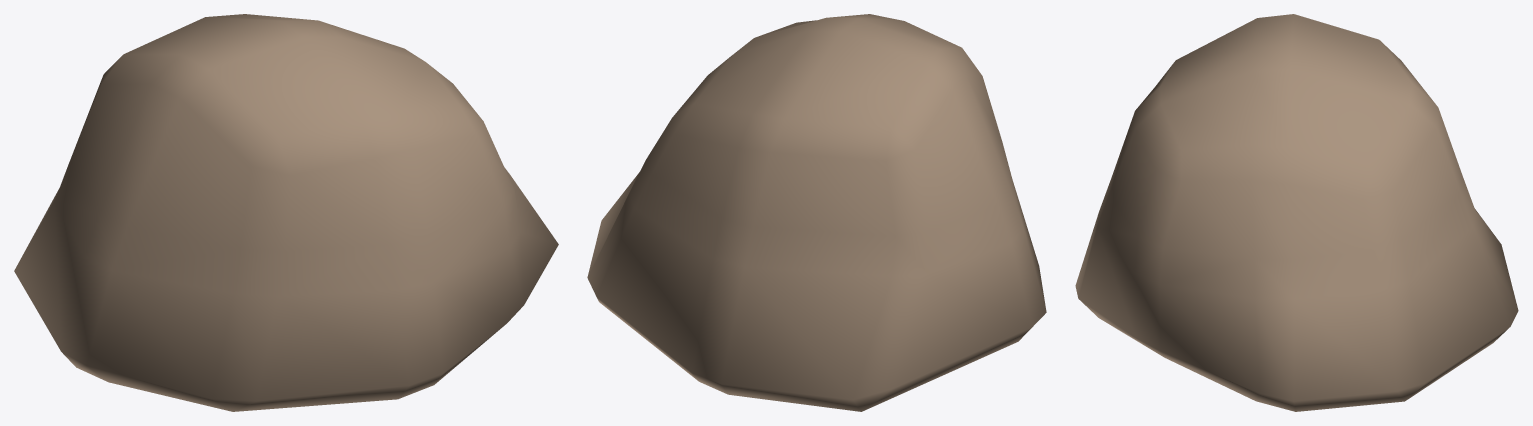
File: Rock_Wide.fbx
3 views of the same model, side by side, from view 1: azimuth 30°, elevation 25°; view 2: azimuth 150°, elevation 25°; view 3: azimuth 270°, elevation 25° (orthographic). The views are drawn at different scales.
Visible parts, largest first — view 1: RockWide_1; view 2: RockWide_1; view 3: RockWide_1.
Boxes of the visible parts, x1,y1,x2,y2 form: RockWide_1: [14, 14, 558, 411]; RockWide_1: [587, 14, 1046, 411]; RockWide_1: [1075, 14, 1518, 411].
Bounding box in the file's own units: 2.45 × 1.54 × 2.22.
